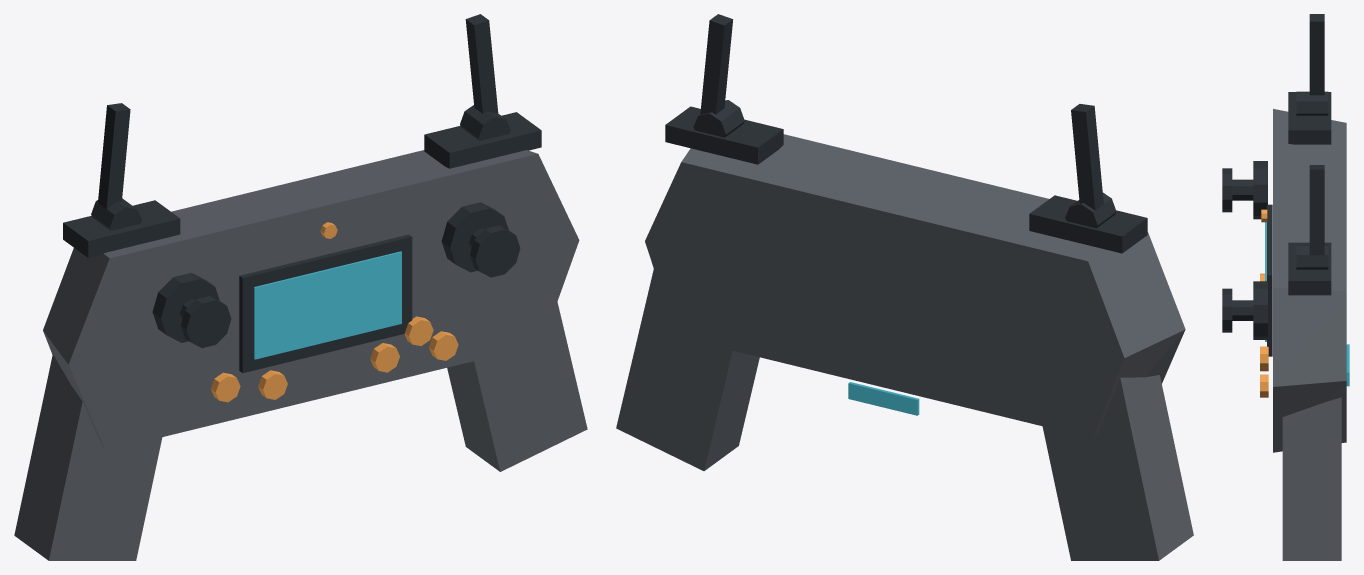
Rendered from Drone_Controller_LowPoly.fbx.
The picture shows the model from 3 angles, left to right: view 1: azimuth 30°, elevation 25°; view 2: azimuth 150°, elevation 25°; view 3: azimuth 270°, elevation 25°; orthographic projection. The views are drawn at different scales.
Visible parts, largest first — view 1: Drone_Controller_LowPoly; view 2: Drone_Controller_LowPoly; view 3: Drone_Controller_LowPoly.
Boxes of the visible parts, bbox=[...] form: Drone_Controller_LowPoly: bbox=[14, 14, 587, 560]; Drone_Controller_LowPoly: bbox=[616, 14, 1193, 560]; Drone_Controller_LowPoly: bbox=[1222, 14, 1349, 560].
Bounding box in the file's own units: 432 × 337 × 103.
